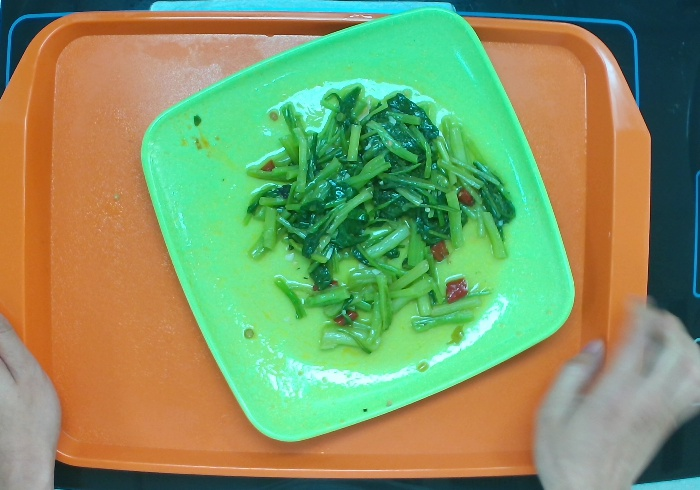ZNLD-Lv_Fang_Pan: (139, 5, 576, 443)
